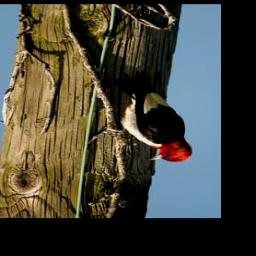Woodpecker: (102, 71, 194, 163)
